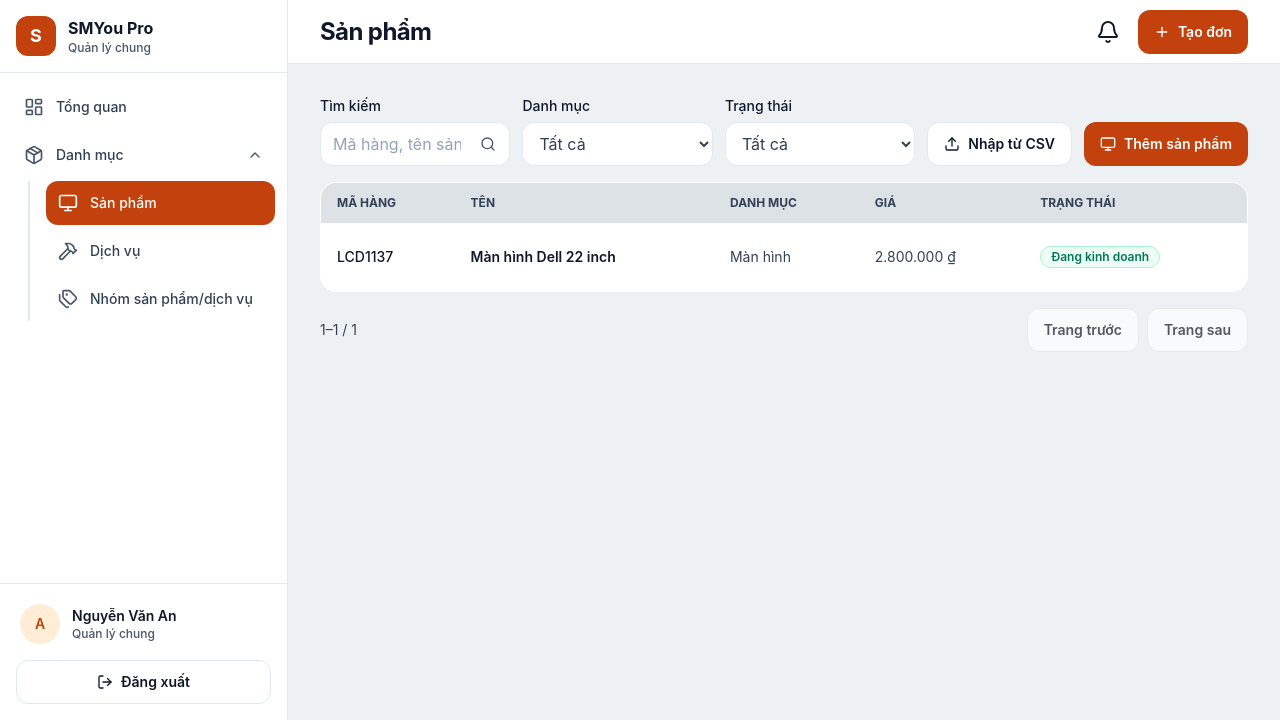
it: AC-CAT-014 sửa sản phẩm › không có ô sku/category/unit; Lưu → toast Đã cập nhật.
This screenshot has width=1280, height=720.
Click the button "Màn hình Dell 22 inch".
click(543, 257)  # box 471,235 -> 616,279
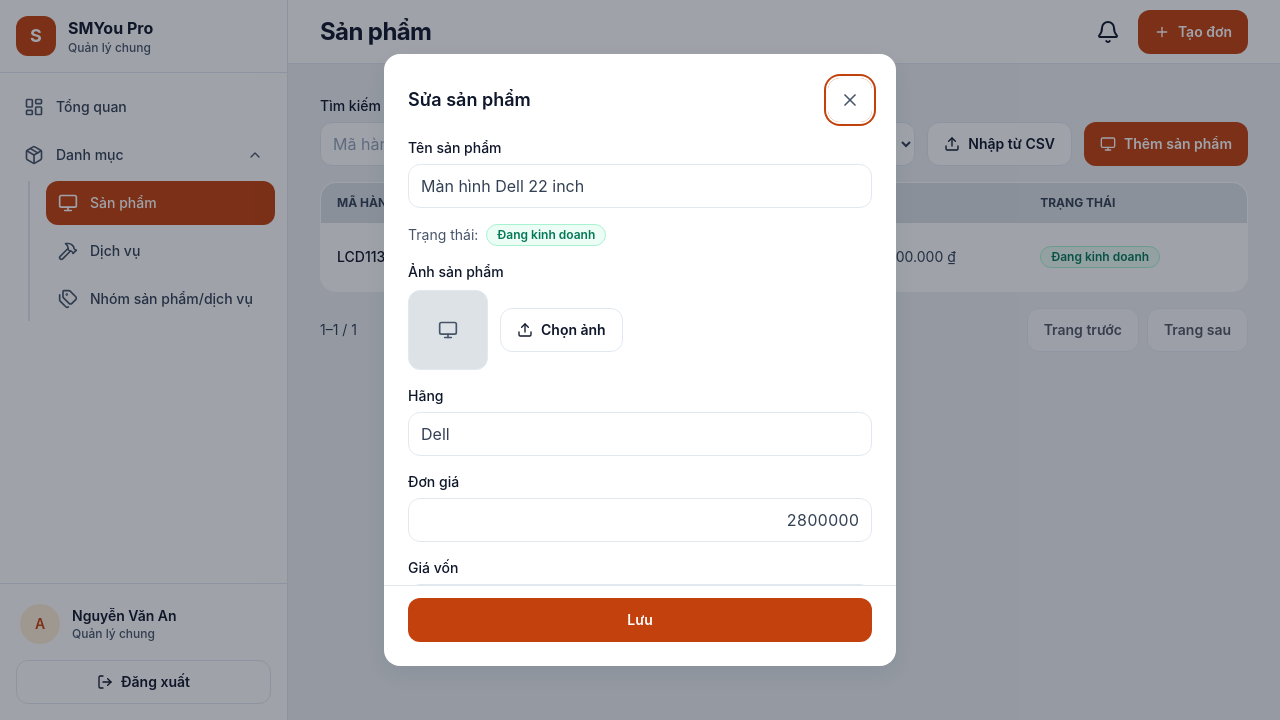
Replace the text in the field labelled "Tên sản phẩm" with "Màn hình Dell 22in FHD" at x=640, y=186, box 408,164 -> 872,208
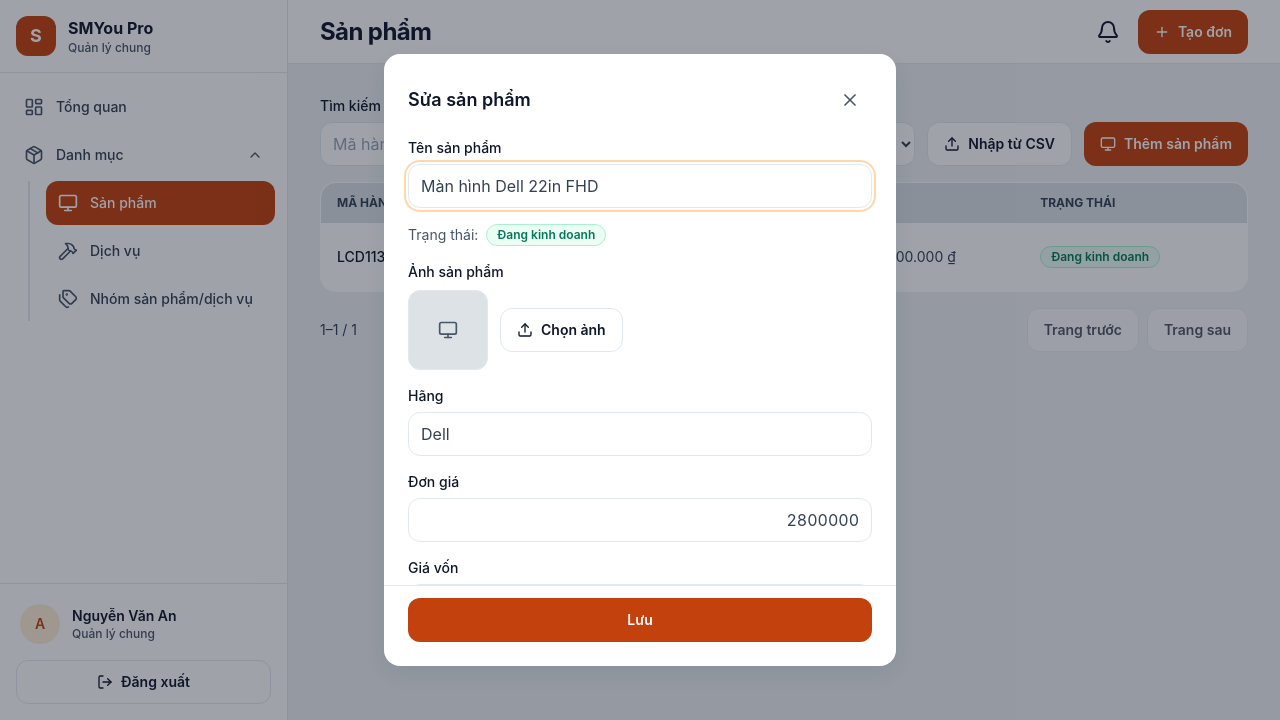
Click the button "Lưu".
click(640, 620)  # box 408,598 -> 872,642
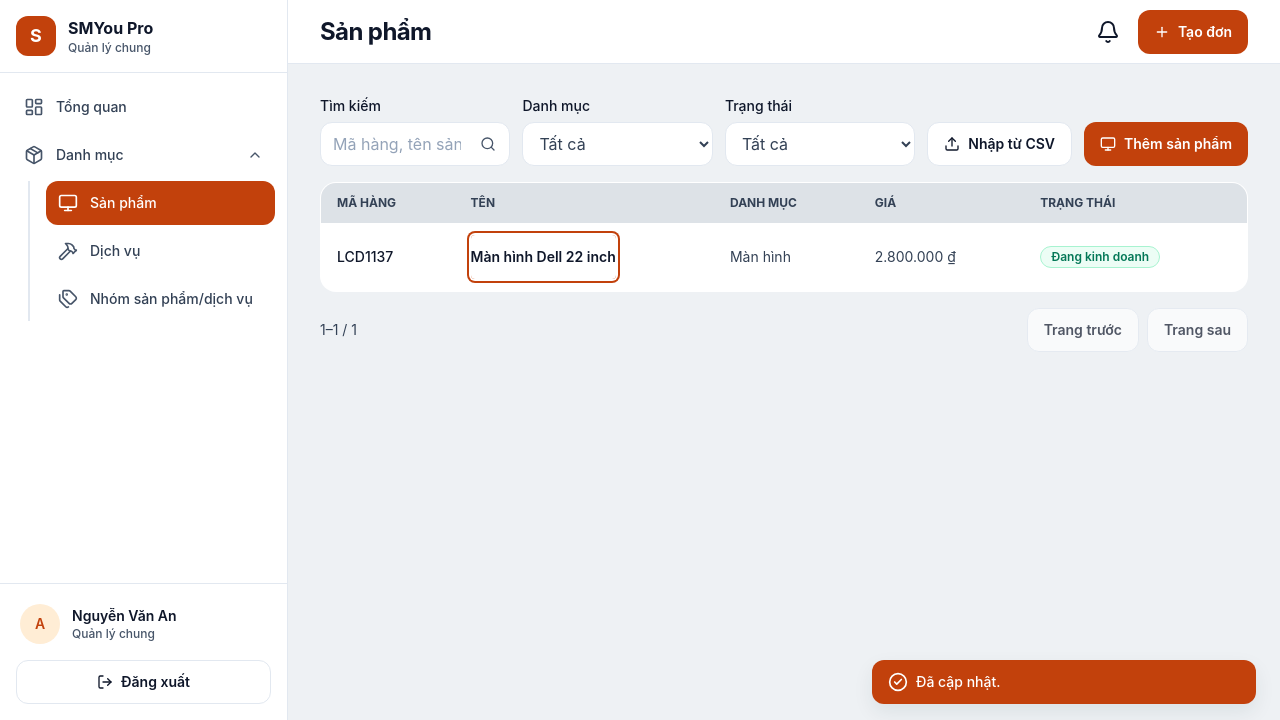
Now the text "Đã cập nhật." is shown, box 872,660 -> 1256,704
